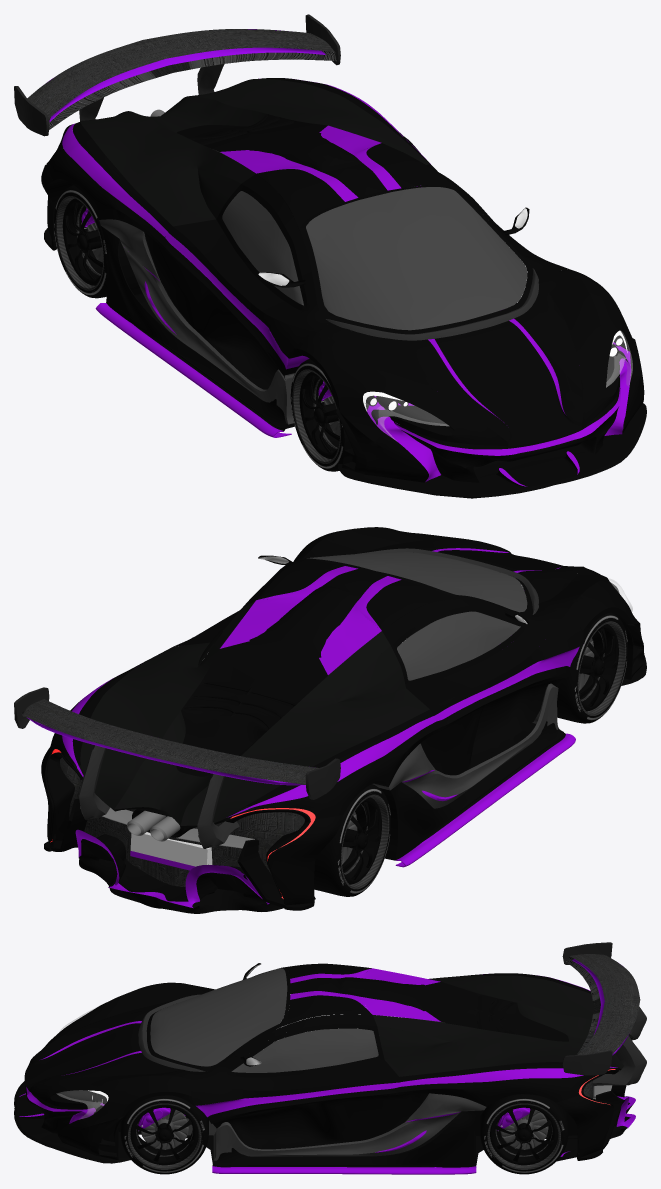
Rendered from vehicle-hypercar-black-001.glb.
The picture shows the model from 3 angles, top to bottom: view 1: azimuth 30°, elevation 25°; view 2: azimuth 150°, elevation 25°; view 3: azimuth 270°, elevation 25°; orthographic projection. The views are drawn at different scales.
Parts seen in each view (by area): view 1: Vert.009, Vert.022, Vert.002, Vert.004, object 78, Vert.013, Vert.003, Vert.024, Vert.025, Vert.016, Vert.012, Vert.008 (+24 smaller); view 2: Vert.004, Vert.016, Vert.024, Vert.013, Vert.027, object 78, Vert.014, Vert.003, Vert.012, Vert.022, Vert.009, Vert (+26 smaller); view 3: Vert.004, Vert.009, Vert.022, Vert.012, Vert.013, Vert.016, Vert.002, Vert.024, Vert.006, Vert.003, Vert, object 78 (+26 smaller).
Boxes of the visible parts, <box> form: Vert.009: <box>306,187,527,330</box>; Vert.022: <box>289,269,643,482</box>; Vert.002: <box>351,284,583,446</box>; Vert.004: <box>80,78,429,226</box>; object 78: <box>27,29,336,129</box>; Vert.013: <box>95,189,397,437</box>; Vert.003: <box>173,148,567,331</box>; Vert.024: <box>49,78,430,247</box>; Vert.025: <box>338,403,646,498</box>; Vert.016: <box>177,114,387,197</box>; Vert.012: <box>145,233,285,388</box>; Vert.008: <box>257,143,457,228</box>; Vert.004: <box>80,601,429,827</box>; Vert.016: <box>176,568,387,776</box>; Vert.024: <box>49,650,442,818</box>; Vert.013: <box>380,721,575,867</box>; Vert.027: <box>73,829,315,913</box>; object 78: <box>21,699,318,785</box>; Vert.014: <box>41,747,342,910</box>; Vert.003: <box>174,548,568,709</box>; Vert.012: <box>420,678,564,775</box>; Vert.022: <box>293,527,641,643</box>; Vert.009: <box>307,552,527,612</box>; Vert: <box>192,548,583,729</box>; Vert.004: <box>373,975,633,1076</box>; Vert.009: <box>150,968,287,1066</box>; Vert.022: <box>29,982,199,1155</box>; Vert.012: <box>212,1093,428,1149</box>; Vert.013: <box>212,1022,501,1174</box>; Vert.016: <box>290,977,568,1041</box>; Vert.002: <box>24,1000,180,1090</box>; Vert.024: <box>397,973,617,1106</box>; Vert.006: <box>187,1018,486,1160</box>; Vert.003: <box>188,970,398,1090</box>; Vert: <box>184,998,399,1123</box>; object 78: <box>565,954,640,1055</box>.
Size of what is drawn, in the model's own units: 402 by 232 by 935.
Materials: 28 (4 with a texture image).
